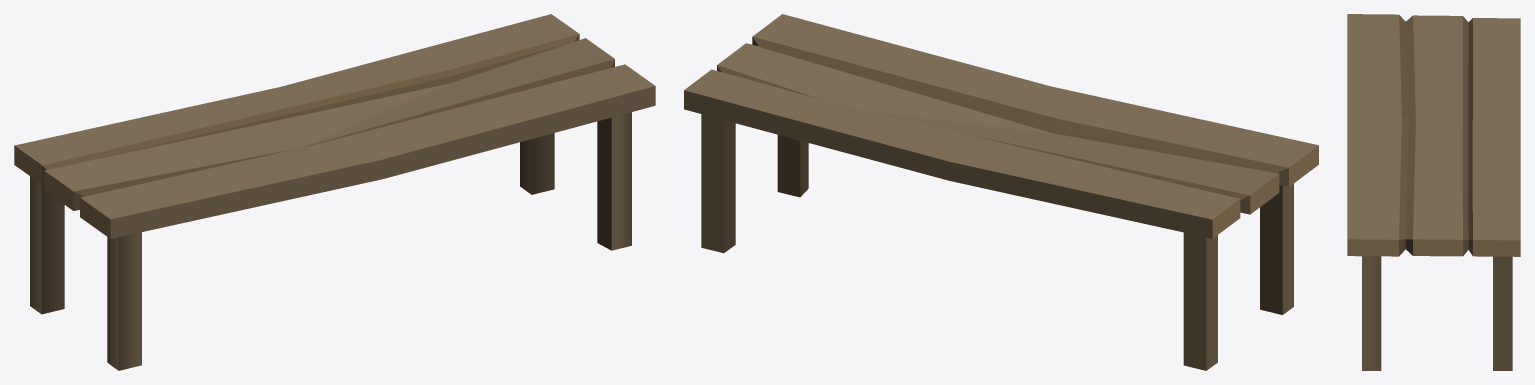
File: SM_Prop_JailBed_01.fbx
3 views of the same model, side by side, from view 1: azimuth 30°, elevation 25°; view 2: azimuth 150°, elevation 25°; view 3: azimuth 270°, elevation 25° (orthographic). The views are drawn at different scales.
Visible parts, largest first — view 1: SM_Prop_JailBed_01; view 2: SM_Prop_JailBed_01; view 3: SM_Prop_JailBed_01.
Part boxes in pixels (<box>): SM_Prop_JailBed_01: <box>14,14,655,370</box>; SM_Prop_JailBed_01: <box>684,14,1318,370</box>; SM_Prop_JailBed_01: <box>1347,14,1520,370</box>.
Size of the model in its own units: 1.85 by 0.5275 by 0.6009.
1 material, 1 textured.
